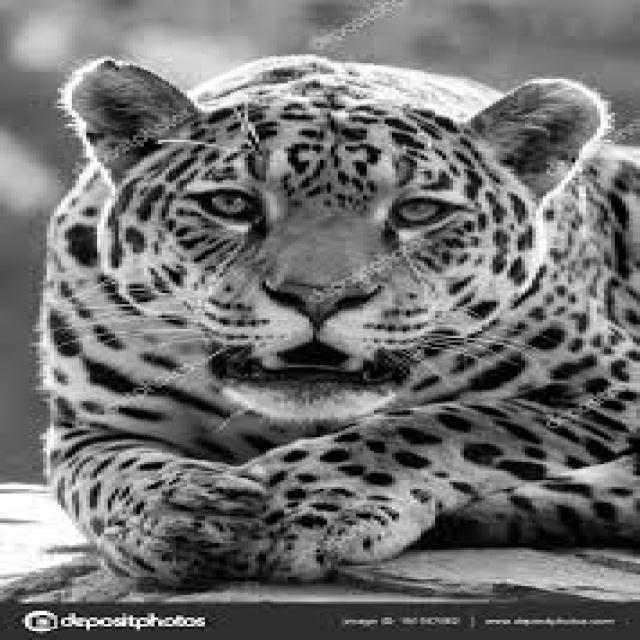Jaguar: (36, 58, 640, 577)
